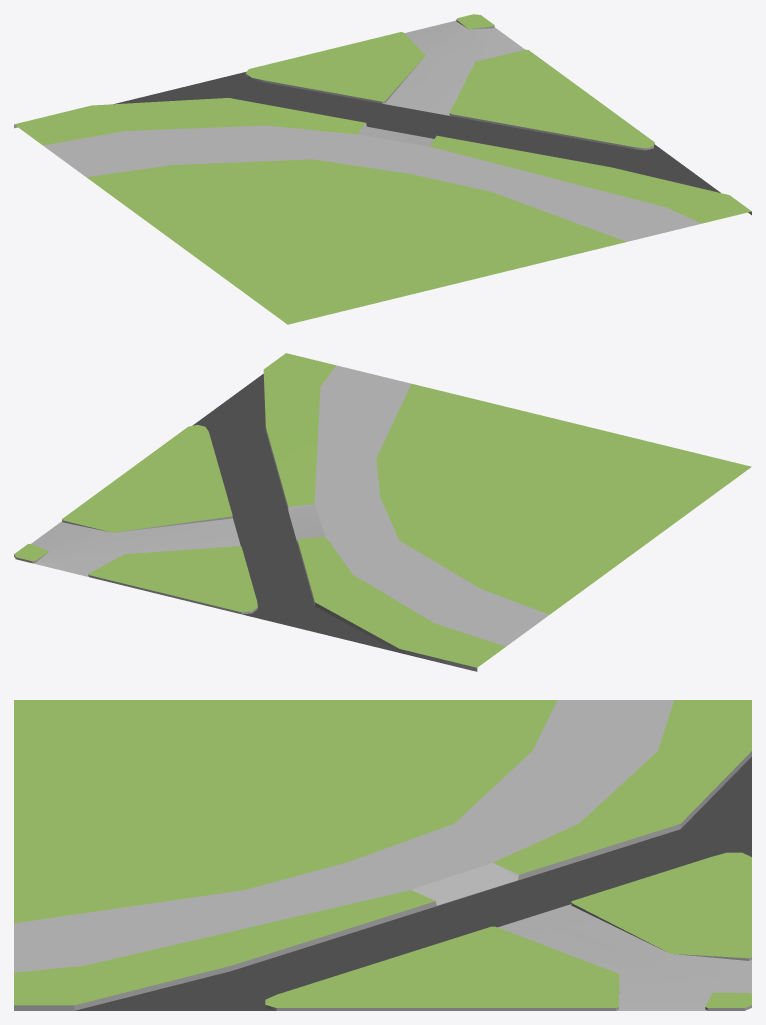
File: StreetCorner.fbx
3 renders of one model, top to bottom at view 1: azimuth 30°, elevation 25°; view 2: azimuth 150°, elevation 25°; view 3: azimuth 270°, elevation 25°, orthographic. The views are drawn at different scales.
Visible parts, largest first — view 1: pCube354, pCube183, pPlane27; view 2: pCube354, pCube183, pPlane27; view 3: pCube354, pCube183, pPlane27.
Boxes of the visible parts, bbox=[...] form: pCube354: bbox=[14, 98, 751, 324]; pCube183: bbox=[245, 14, 654, 150]; pPlane27: bbox=[113, 71, 720, 192]; pCube354: bbox=[263, 353, 751, 671]; pCube183: bbox=[14, 425, 257, 614]; pPlane27: bbox=[192, 374, 398, 652]; pCube354: bbox=[14, 700, 751, 1010]; pCube183: bbox=[265, 852, 751, 1010]; pPlane27: bbox=[75, 757, 751, 1010].
Bounding box in the file's own units: 3001 × 25 × 3065.
